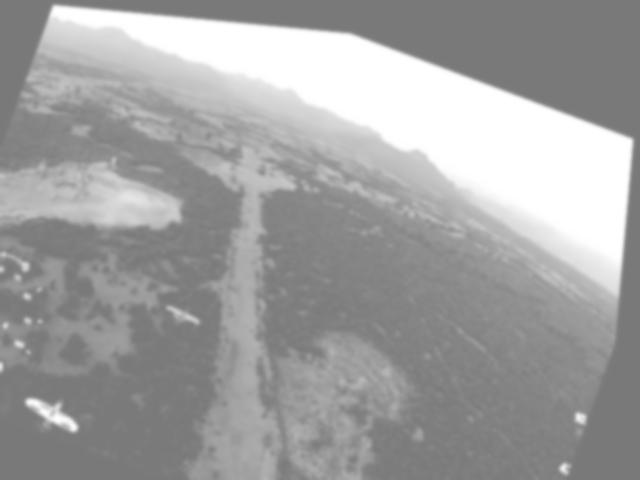hedef: (18, 381, 102, 444), (163, 291, 211, 335)
